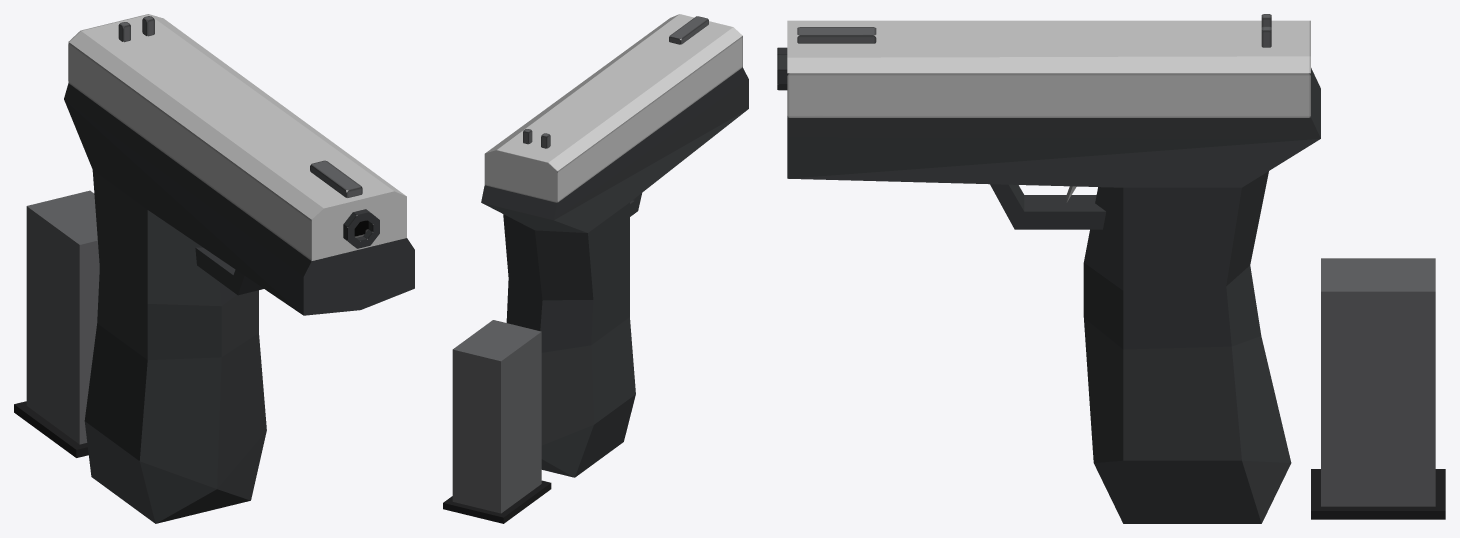
The model's file is lpPistol.fbx.
The picture shows the model from 3 angles, left to right: view 1: azimuth 30°, elevation 25°; view 2: azimuth 150°, elevation 25°; view 3: azimuth 270°, elevation 25°; orthographic projection. The views are drawn at different scales.
Visible parts, largest first — view 1: Mango, Carcasa, cube_3, cube_4, cube, Cannon; view 2: Mango, Carcasa, cube_3, cube_4, cube; view 3: Mango, Carcasa, cube_3, cube_4, cube.
Part boxes in pixels (<box>): Mango: <box>64,83,414,523</box>; Carcasa: <box>68,14,406,260</box>; cube_3: <box>26,190,99,444</box>; cube_4: <box>14,401,88,457</box>; cube: <box>310,160,362,197</box>; Cannon: <box>343,209,379,248</box>; Mango: <box>481,67,748,477</box>; Carcasa: <box>484,14,742,202</box>; cube_3: <box>452,320,541,513</box>; cube_4: <box>443,480,551,523</box>; cube: <box>669,16,708,44</box>; Mango: <box>787,68,1320,523</box>; Carcasa: <box>787,20,1310,117</box>; cube_3: <box>1321,258,1435,506</box>; cube_4: <box>1311,469,1445,519</box>; cube: <box>797,27,876,43</box>.
Bounding box in the file's own units: 25 × 83.13 × 106.
Materials: 3 (3 with a texture image).
